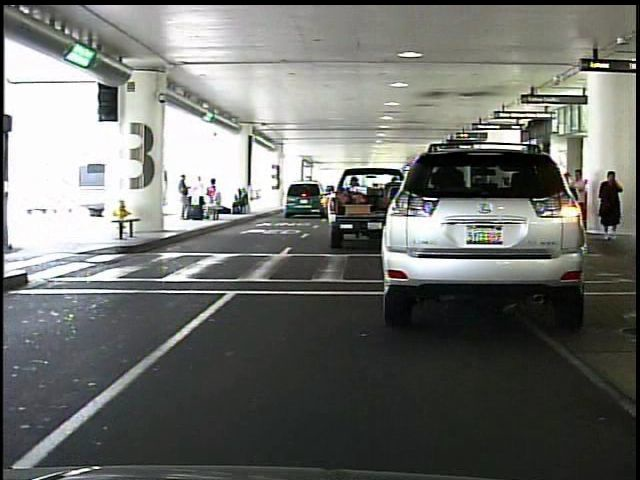person: (594, 166, 622, 241), (569, 168, 591, 240), (174, 171, 194, 224)
